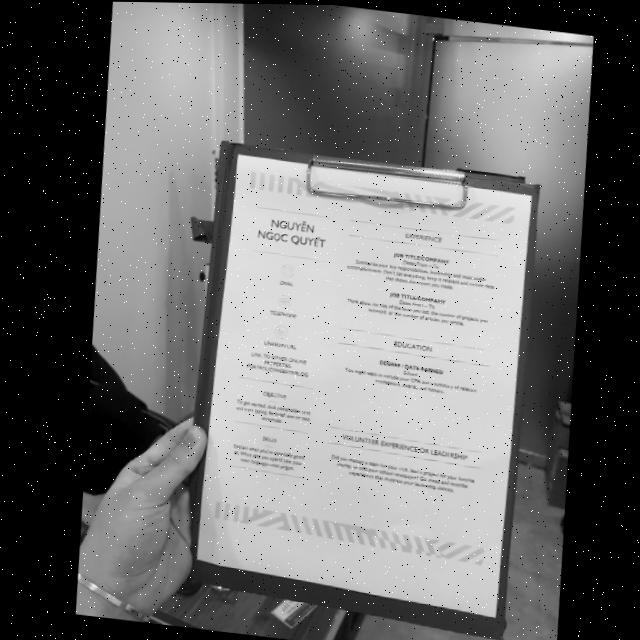document: (196, 154, 532, 618)
